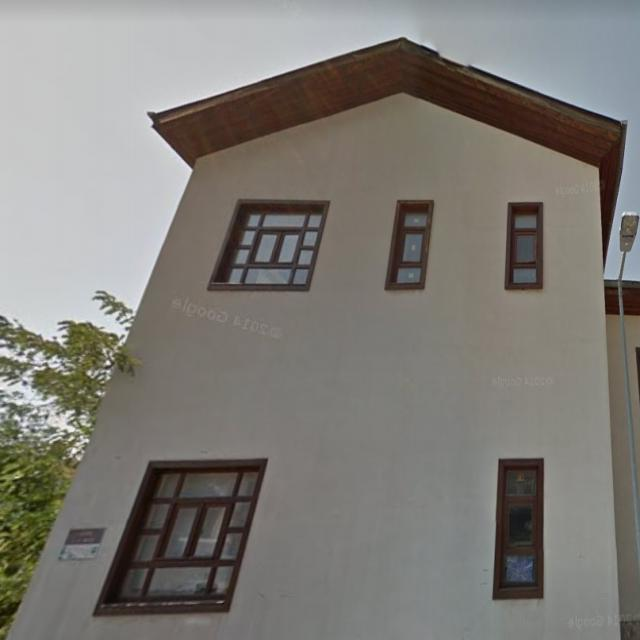Building: (3, 38, 625, 640)
